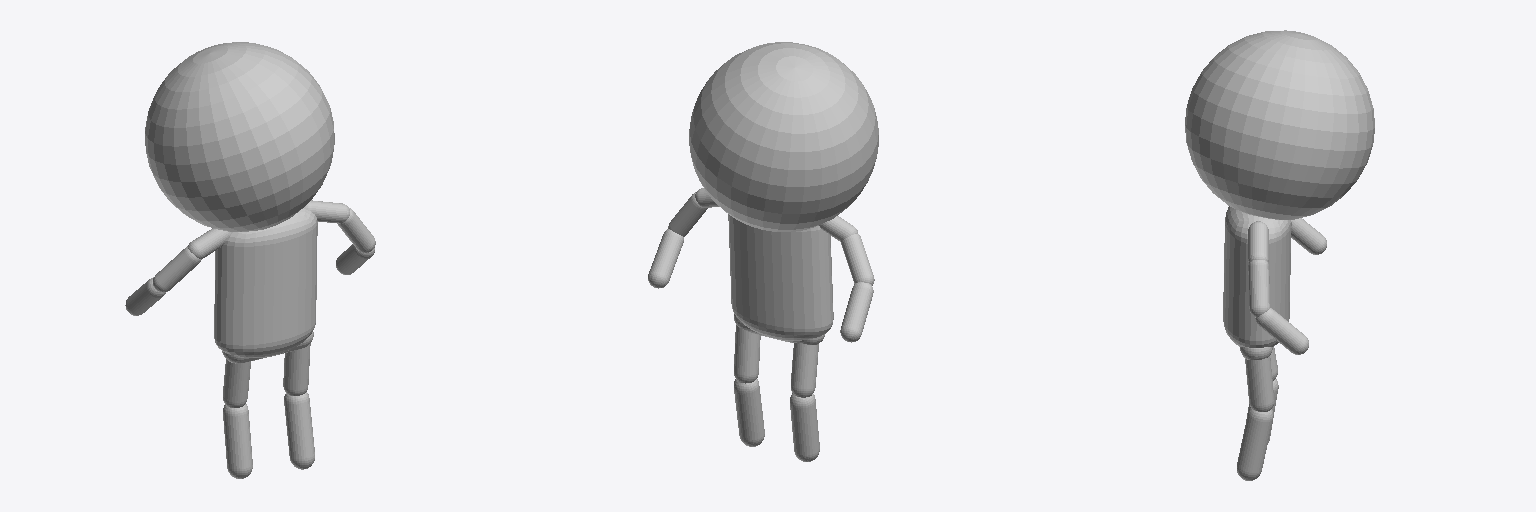
Rendered from Stickman_000067.obj.
3 views of the same model, side by side, from view 1: azimuth 30°, elevation 25°; view 2: azimuth 150°, elevation 25°; view 3: azimuth 270°, elevation 25° (orthographic).
Parts seen in each view (by area): view 1: Head_Sphere.001, Body_Roundcube.002, LowerLegLeft_Roundcube.013, LowerLegRight_Roundcube.011, UpperLegLeft_Roundcube.012, UpperLegRight_Roundcube.010, UpperArmRight_Roundcube.015, UpperArmLeft_Roundcube.018, LowerArmRight_Roundcube.016, ShoulderRight_Roundcube.014, ShoulderLeft_Roundcube.017, LowerArmLeft_Roundcube.019; view 2: Head_Sphere.001, Body_Roundcube.002, LowerLegRight_Roundcube.011, LowerLegLeft_Roundcube.013, UpperLegRight_Roundcube.010, LowerArmRight_Roundcube.016, UpperLegLeft_Roundcube.012, LowerArmLeft_Roundcube.019, UpperArmRight_Roundcube.015, UpperArmLeft_Roundcube.018, ShoulderRight_Roundcube.014; view 3: Head_Sphere.001, Body_Roundcube.002, LowerLegLeft_Roundcube.013, UpperLegLeft_Roundcube.012, LowerArmLeft_Roundcube.019, UpperArmLeft_Roundcube.018, LowerArmRight_Roundcube.016, ShoulderLeft_Roundcube.017.
Part boxes in pixels (left/top/right/bottom): Head_Sphere.001: left=145, top=42, right=334, bottom=231; Body_Roundcube.002: left=214, top=207, right=317, bottom=357; LowerLegLeft_Roundcube.013: left=284, top=392, right=314, bottom=469; LowerLegRight_Roundcube.011: left=223, top=404, right=252, bottom=478; UpperLegLeft_Roundcube.012: left=283, top=343, right=310, bottom=395; UpperLegRight_Roundcube.010: left=223, top=359, right=250, bottom=407; UpperArmRight_Roundcube.015: left=153, top=246, right=201, bottom=292; UpperArmLeft_Roundcube.018: left=338, top=208, right=375, bottom=252; LowerArmRight_Roundcube.016: left=125, top=277, right=165, bottom=315; ShoulderRight_Roundcube.014: left=188, top=228, right=230, bottom=258; ShoulderLeft_Roundcube.017: left=305, top=200, right=349, bottom=223; LowerArmLeft_Roundcube.019: left=336, top=244, right=374, bottom=274; Head_Sphere.001: left=689, top=42, right=878, bottom=231; Body_Roundcube.002: left=728, top=214, right=833, bottom=340; LowerLegRight_Roundcube.011: left=790, top=393, right=819, bottom=461; LowerLegLeft_Roundcube.013: left=734, top=379, right=764, bottom=446; UpperLegRight_Roundcube.010: left=791, top=342, right=818, bottom=397; LowerArmRight_Roundcube.016: left=840, top=282, right=873, bottom=342; UpperLegLeft_Roundcube.012: left=734, top=325, right=760, bottom=383; LowerArmLeft_Roundcube.019: left=648, top=229, right=683, bottom=288; UpperArmRight_Roundcube.015: left=841, top=234, right=874, bottom=285; UpperArmLeft_Roundcube.018: left=668, top=192, right=707, bottom=236; ShoulderRight_Roundcube.014: left=819, top=216, right=857, bottom=241; Head_Sphere.001: left=1185, top=30, right=1374, bottom=219; Body_Roundcube.002: left=1223, top=206, right=1291, bottom=347; LowerLegLeft_Roundcube.013: left=1237, top=408, right=1272, bottom=480; UpperLegLeft_Roundcube.012: left=1245, top=356, right=1273, bottom=411; LowerArmLeft_Roundcube.019: left=1255, top=308, right=1308, bottom=354; UpperArmLeft_Roundcube.018: left=1248, top=260, right=1269, bottom=317; LowerArmRight_Roundcube.016: left=1291, top=218, right=1326, bottom=254; ShoulderLeft_Roundcube.017: left=1248, top=221, right=1268, bottom=261.
Size of the model in its own units: 7.04 by 12.67 by 5.24.